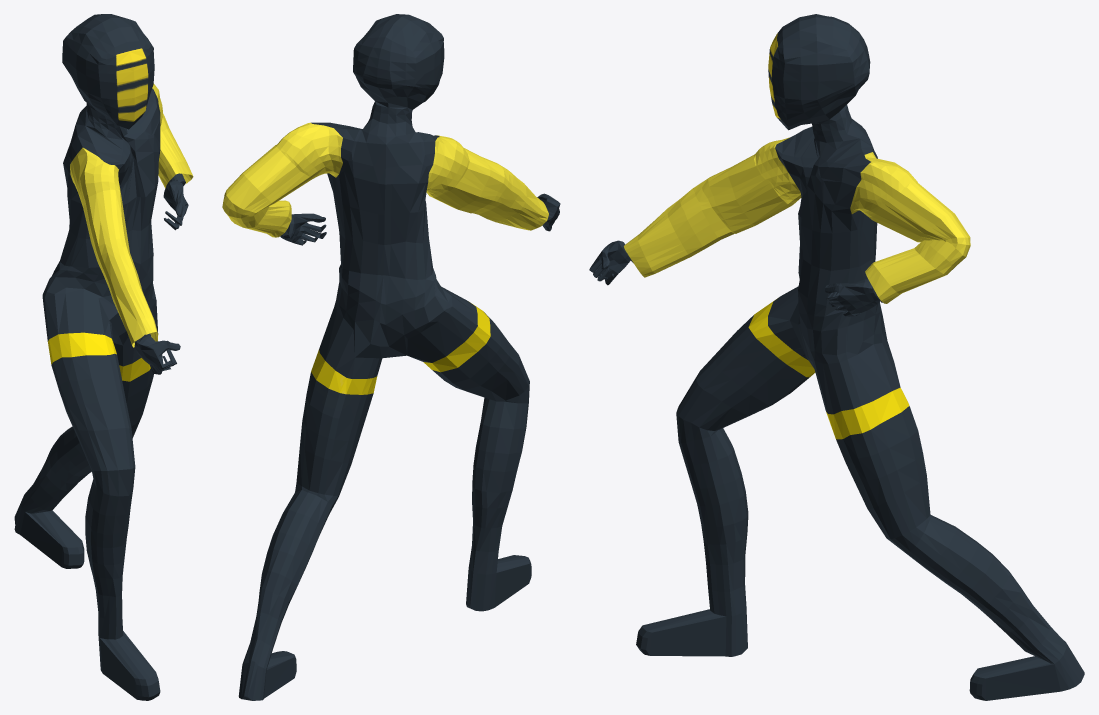
Rendered from Sentry_Stun_000002.obj.
The picture shows the model from 3 angles, left to right: view 1: azimuth 30°, elevation 25°; view 2: azimuth 150°, elevation 25°; view 3: azimuth 270°, elevation 25°; orthographic projection. The views are drawn at different scales.
Parts seen in each view (by area): view 1: Cube; view 2: Cube; view 3: Cube.
Part boxes in pixels (left/top/right/bottom): Cube: left=14, top=14, right=193, bottom=700; Cube: left=222, top=14, right=560, bottom=700; Cube: left=589, top=14, right=1084, bottom=700.
Size of the model in its own units: 1.16 by 3.6 by 2.46.
